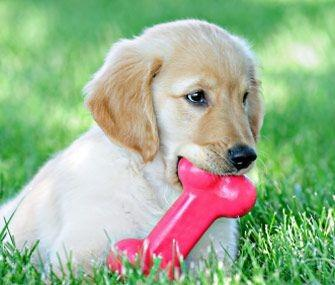puppy-dog: (0, 19, 266, 281)
